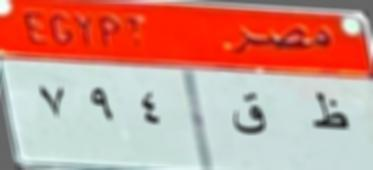4: (136, 89, 163, 130)
7: (37, 81, 70, 120)
9: (88, 84, 118, 122)
Thaa: (308, 87, 348, 137)
qaaf: (227, 86, 270, 142)
